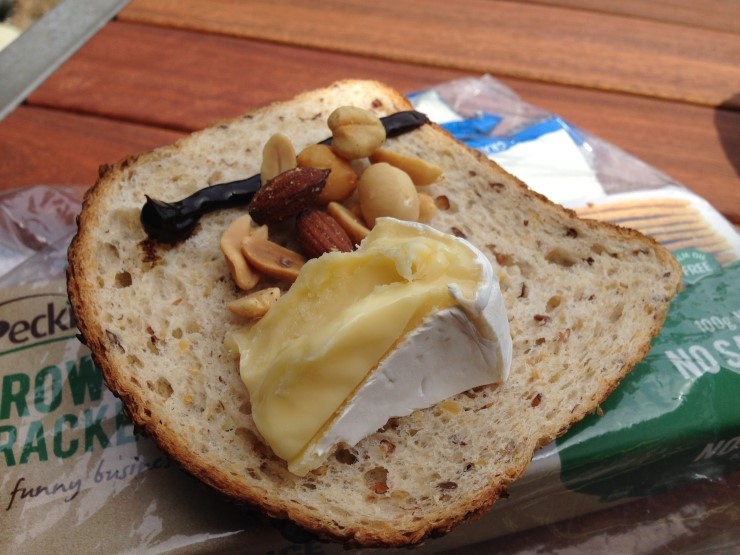slice of bread: (45, 251, 656, 400)
